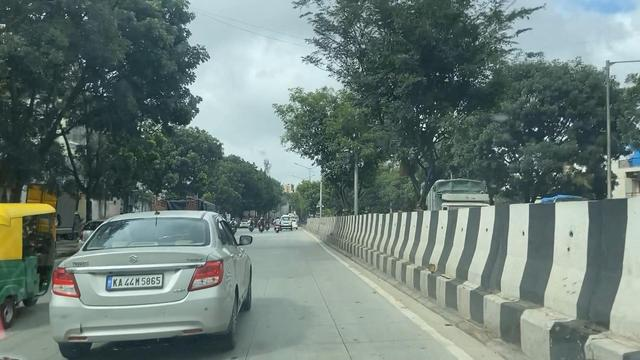LMV: (69, 213, 249, 355), (0, 215, 60, 315)
